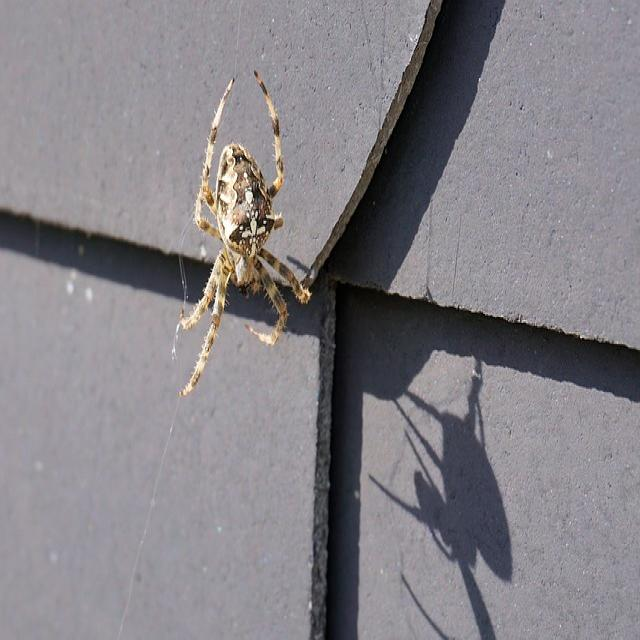spyder: (180, 71, 310, 395)
